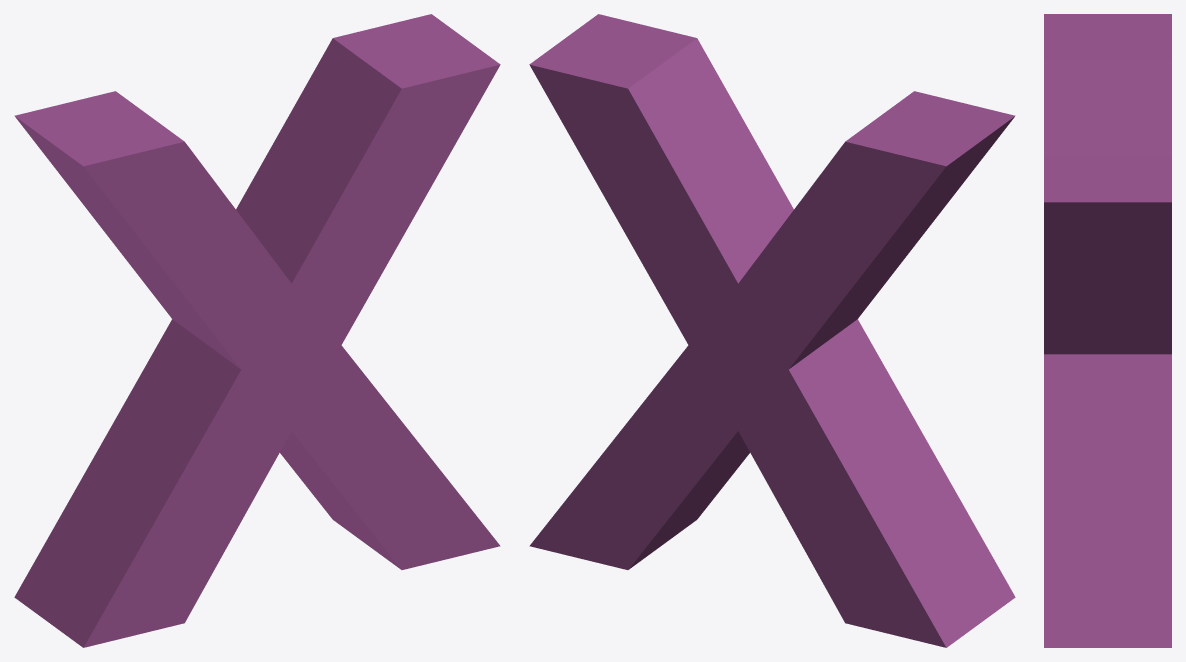
Rendered from letter_x.fbx.
3 views of the same model, side by side, from view 1: azimuth 30°, elevation 25°; view 2: azimuth 150°, elevation 25°; view 3: azimuth 270°, elevation 25° (orthographic). The views are drawn at different scales.
Visible parts, largest first — view 1: X; view 2: X; view 3: X.
Boxes of the visible parts, x1,y1,x2,y2 form: X: [14, 14, 500, 647]; X: [529, 14, 1015, 647]; X: [1044, 14, 1171, 647].
Size of the model in its own units: 22.46 by 24.77 by 6.44.
